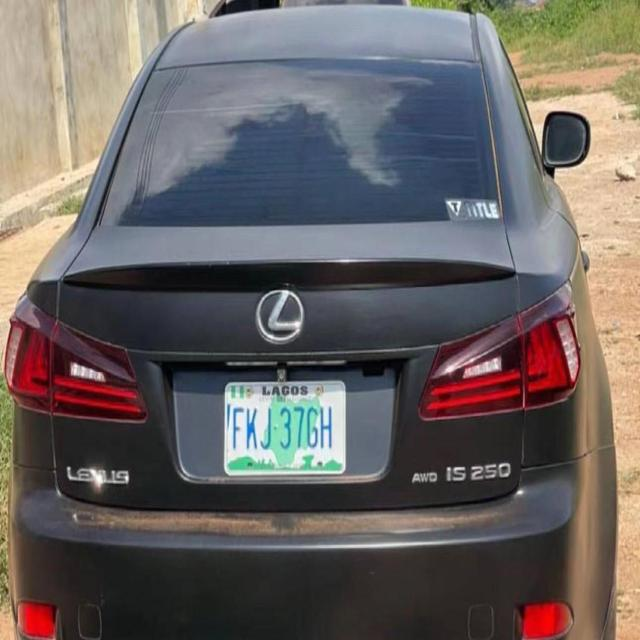Nigerian License Plate - vdataset benjamin-daria: (222, 375, 348, 478)
